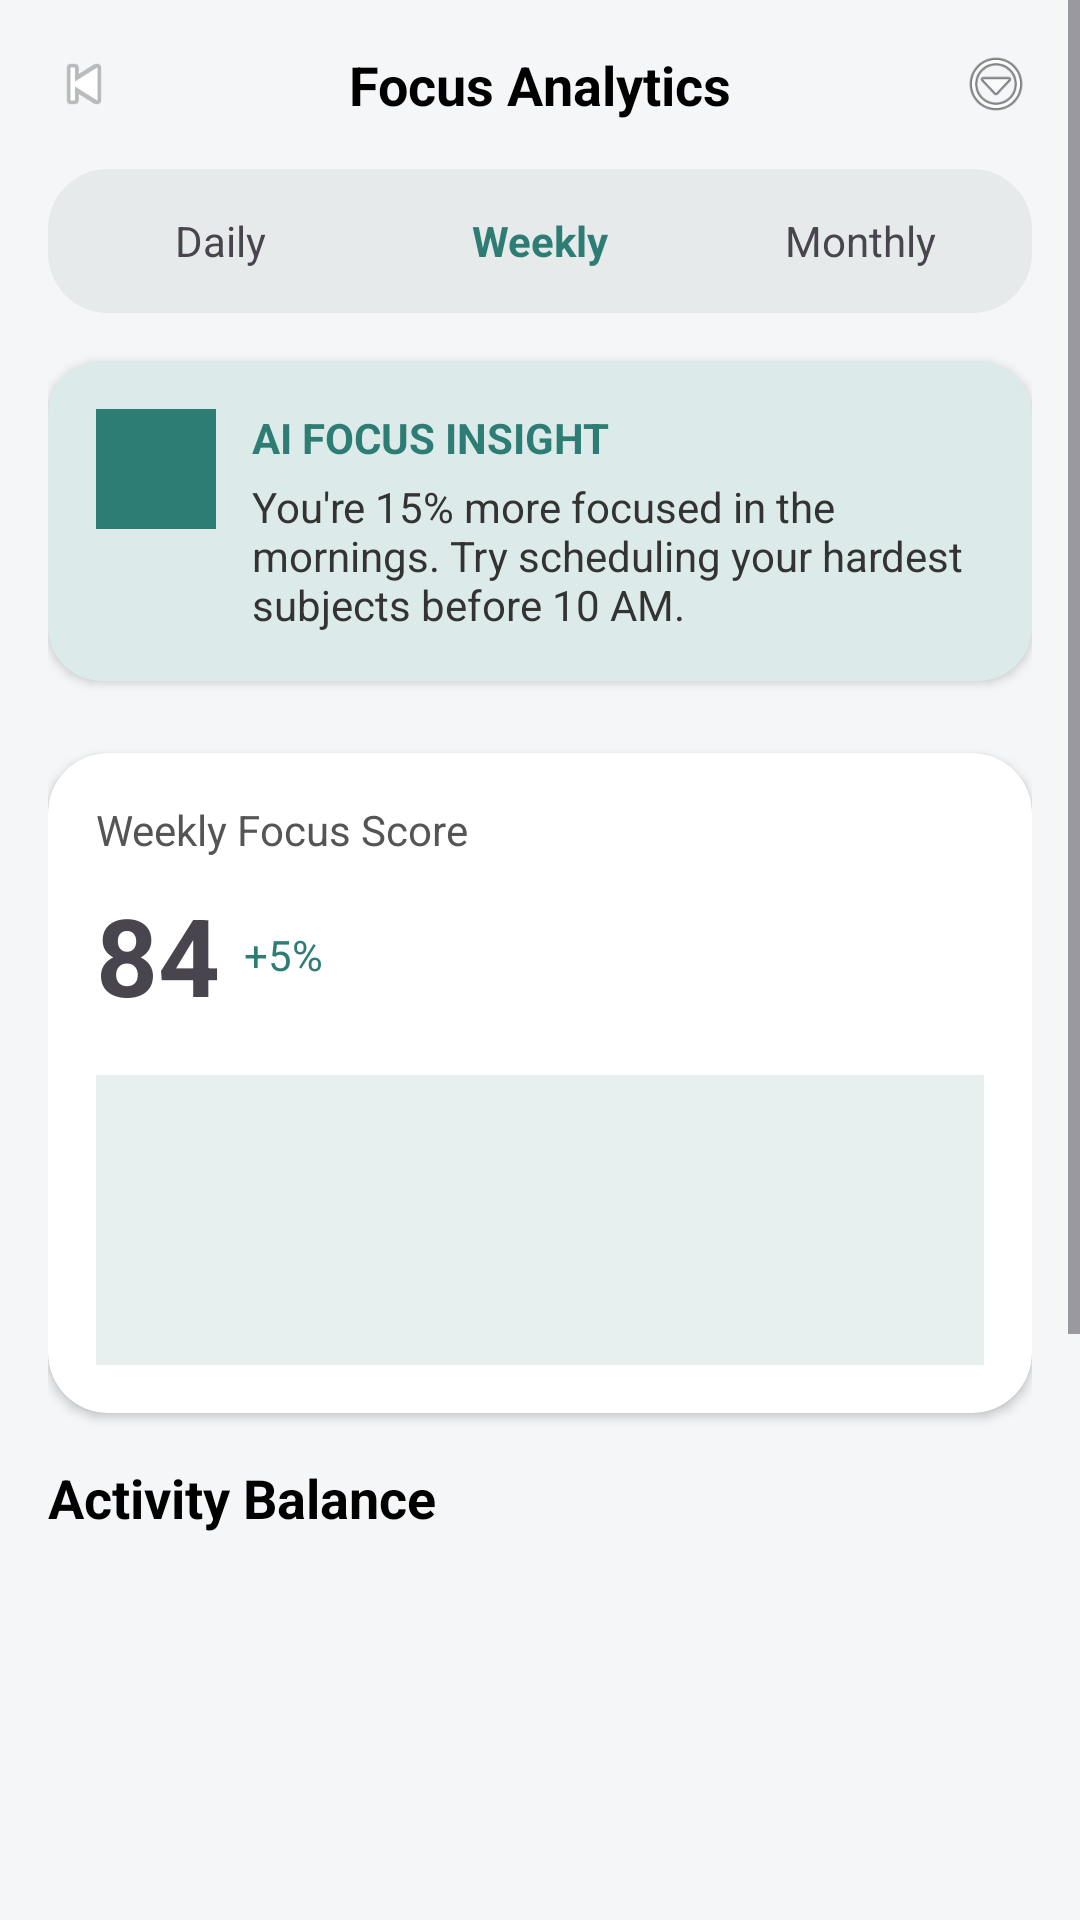

Icons on this 1080x1920 Android screen, each with its box as (x1, y1, x2, y2):
previous: (66, 63, 102, 105)
